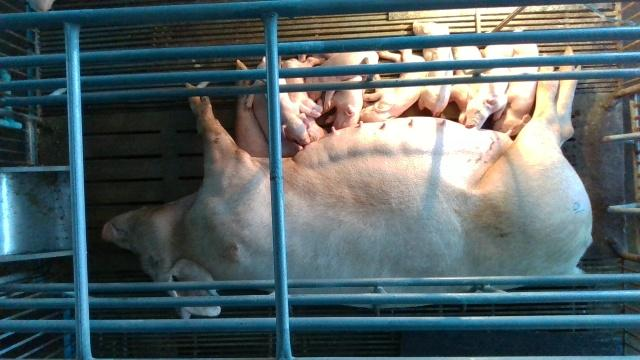piglet: (245, 55, 314, 144), (361, 53, 430, 125), (320, 51, 378, 131), (411, 18, 454, 117), (277, 59, 328, 140), (448, 46, 498, 128), (495, 43, 539, 133), (475, 45, 512, 130)
sow-sleep-lactate: (100, 43, 595, 321)
